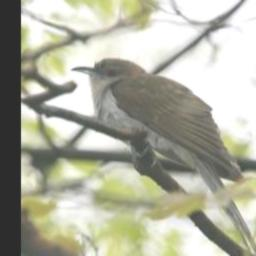Cuckoo: (71, 57, 256, 256)
